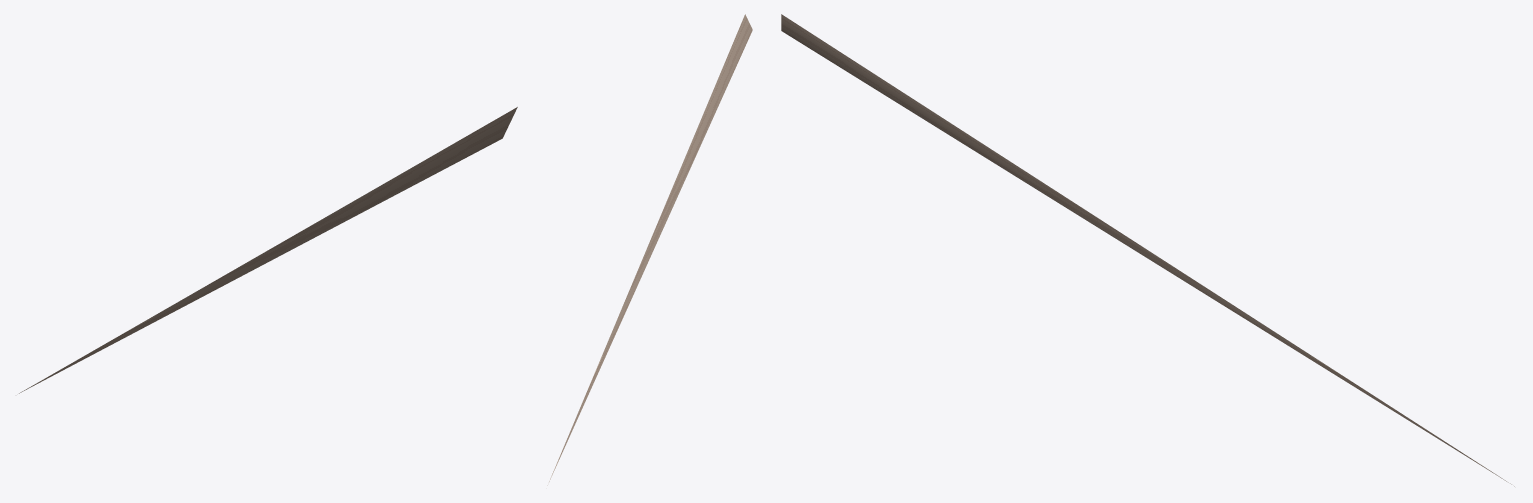
Rendered from kd_stage_135ded_4_52_bounded_piece_4.glb.
The picture shows the model from 3 angles, left to right: view 1: azimuth 30°, elevation 25°; view 2: azimuth 150°, elevation 25°; view 3: azimuth 270°, elevation 25°; orthographic projection. The views are drawn at different scales.
Parts seen in each view (by area): view 1: kd_stage_135ded_4_52_bounded_piece_4; view 2: kd_stage_135ded_4_52_bounded_piece_4; view 3: kd_stage_135ded_4_52_bounded_piece_4.
Boxes of the visible parts, x1,y1,x2,y2 form: kd_stage_135ded_4_52_bounded_piece_4: [19, 107, 517, 393]; kd_stage_135ded_4_52_bounded_piece_4: [547, 14, 752, 485]; kd_stage_135ded_4_52_bounded_piece_4: [781, 14, 1514, 486].
Size of the model in its own units: 0.0434 by 0.4756 by 0.6407.
Materials: 1 (1 with a texture image).
